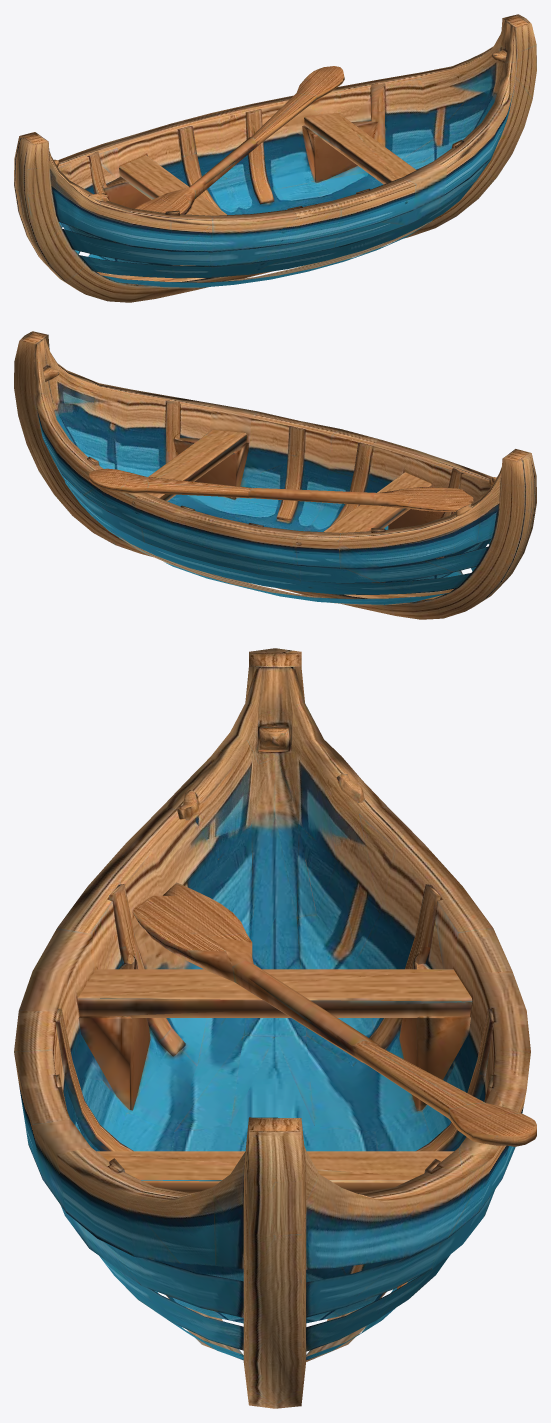
Rendered from rowboat.glb.
3 renders of one model, top to bottom at view 1: azimuth 30°, elevation 25°; view 2: azimuth 150°, elevation 25°; view 3: azimuth 270°, elevation 25°, orthographic. The views are drawn at different scales.
Size of the model in its own units: 0.9565 by 0.3306 by 0.4273.
Materials: 1 (1 with a texture image).
